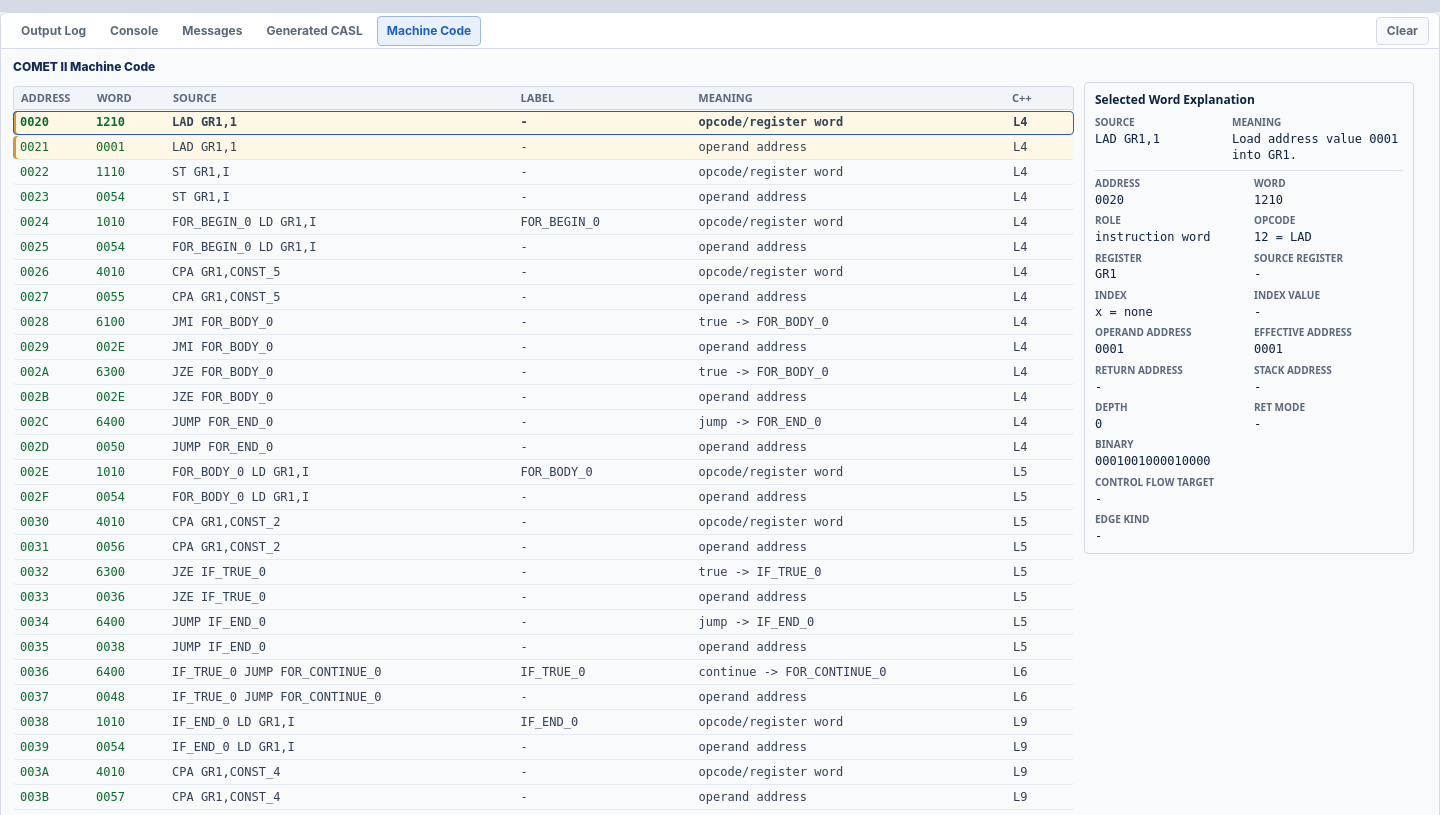
Scenario: machine code rows › machine_code_jump_explanation_for_continue
Click the button with test id "machine-code-row-": (544, 672) [13, 660, 1074, 684]
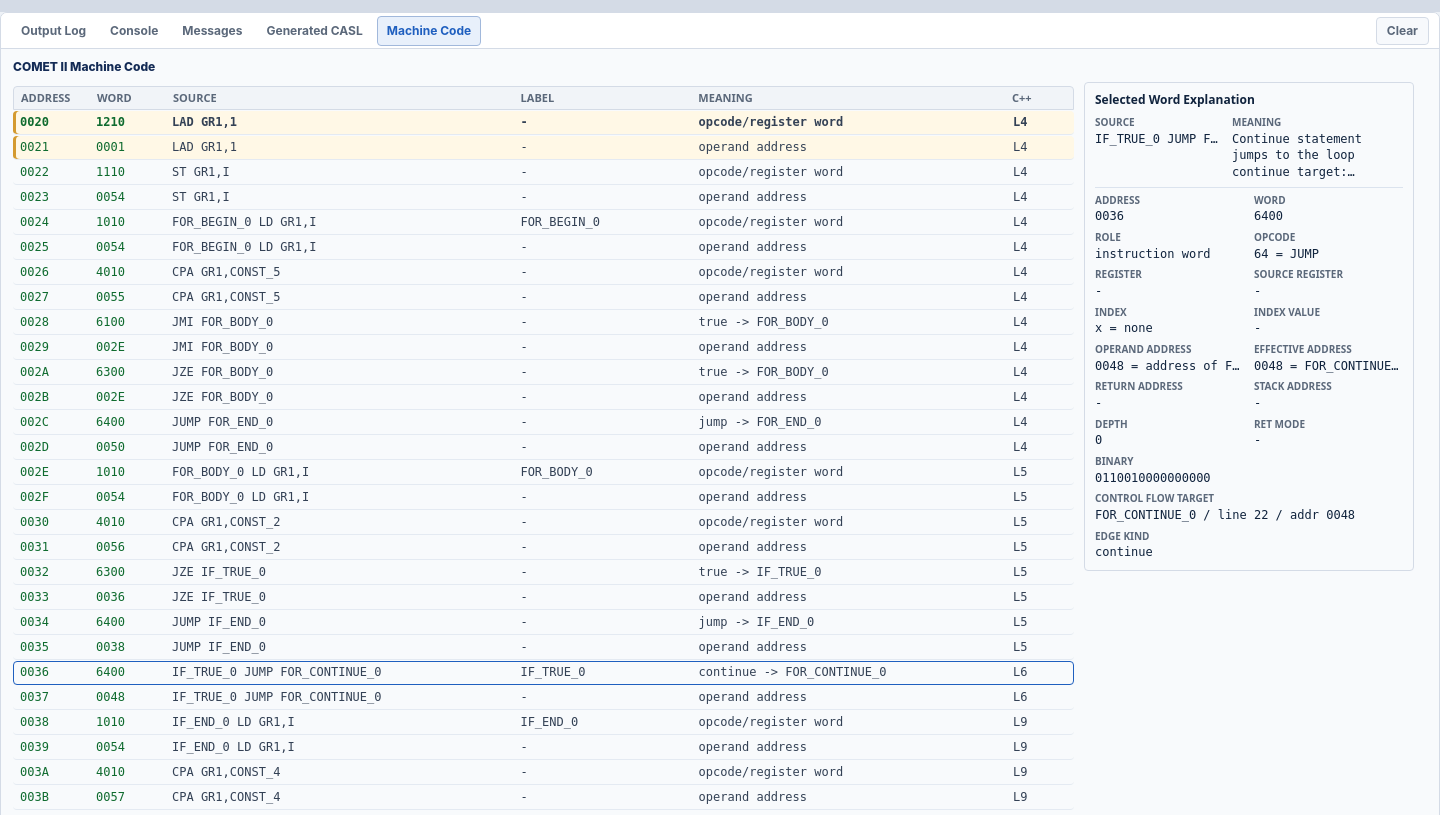
Expected: the element with test id "machine-code-explanation" shows "FOR_CONTINUE_0", [1095, 132, 1304, 146]
Expected: the element with test id "machine-code-explanation" shows "CONTINUE", [1095, 545, 1153, 559]
